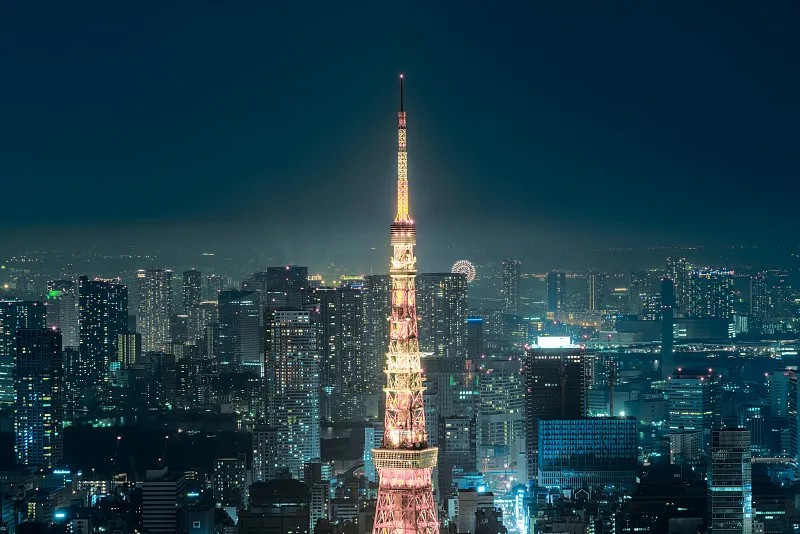Tokyo: (370, 73, 443, 533)
